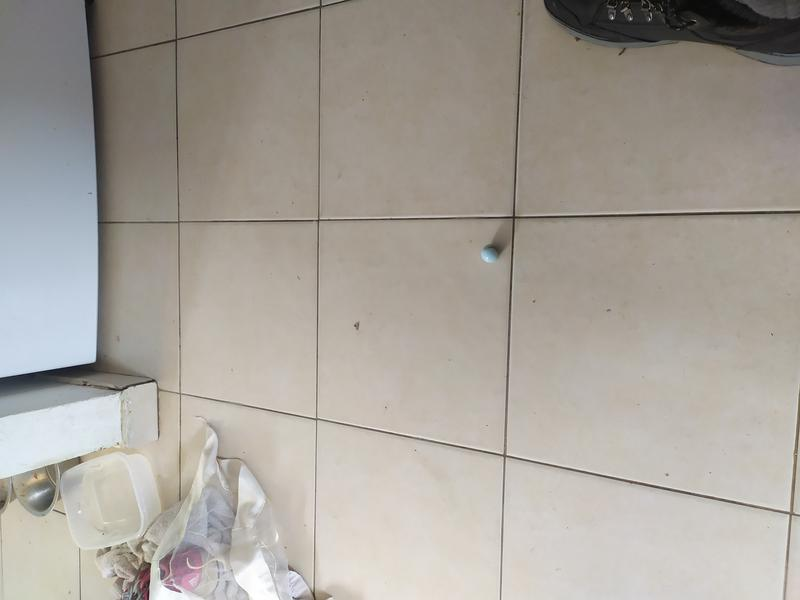Warning: (479, 242, 502, 266)
